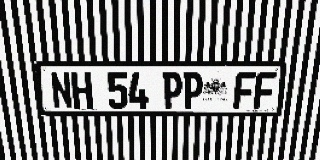4: (128, 72, 148, 109)
5: (107, 72, 128, 109)
F: (233, 72, 256, 109), (253, 72, 276, 109)
H: (71, 72, 93, 109)
N: (50, 72, 73, 109)
P: (182, 72, 203, 109), (162, 72, 182, 109)
